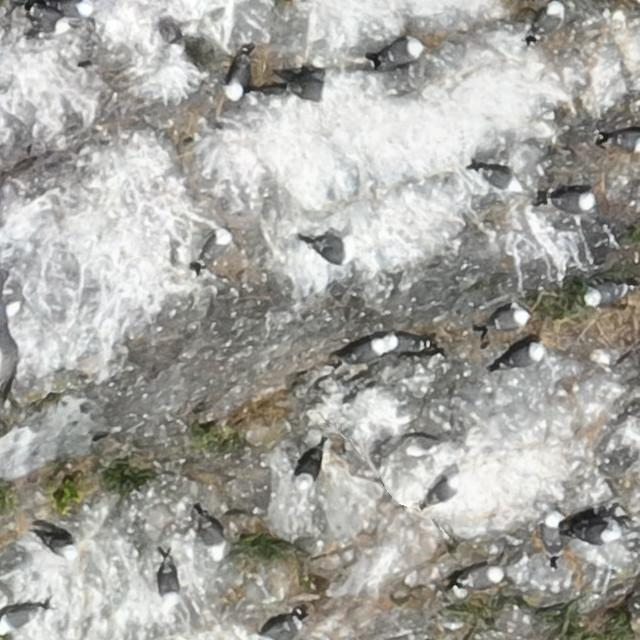umineko: (574, 513, 623, 549), (193, 226, 231, 272), (28, 0, 75, 35), (419, 475, 461, 514), (197, 516, 229, 561), (288, 80, 343, 105), (539, 510, 564, 562), (536, 2, 562, 38), (313, 238, 351, 262), (229, 56, 251, 95), (460, 568, 500, 589), (551, 192, 594, 211), (298, 451, 322, 485), (384, 41, 421, 63), (482, 169, 521, 189), (0, 609, 35, 630), (494, 307, 526, 329), (590, 284, 627, 303), (40, 535, 71, 557), (350, 341, 384, 361), (262, 618, 294, 639), (160, 564, 177, 598), (611, 130, 639, 150)
